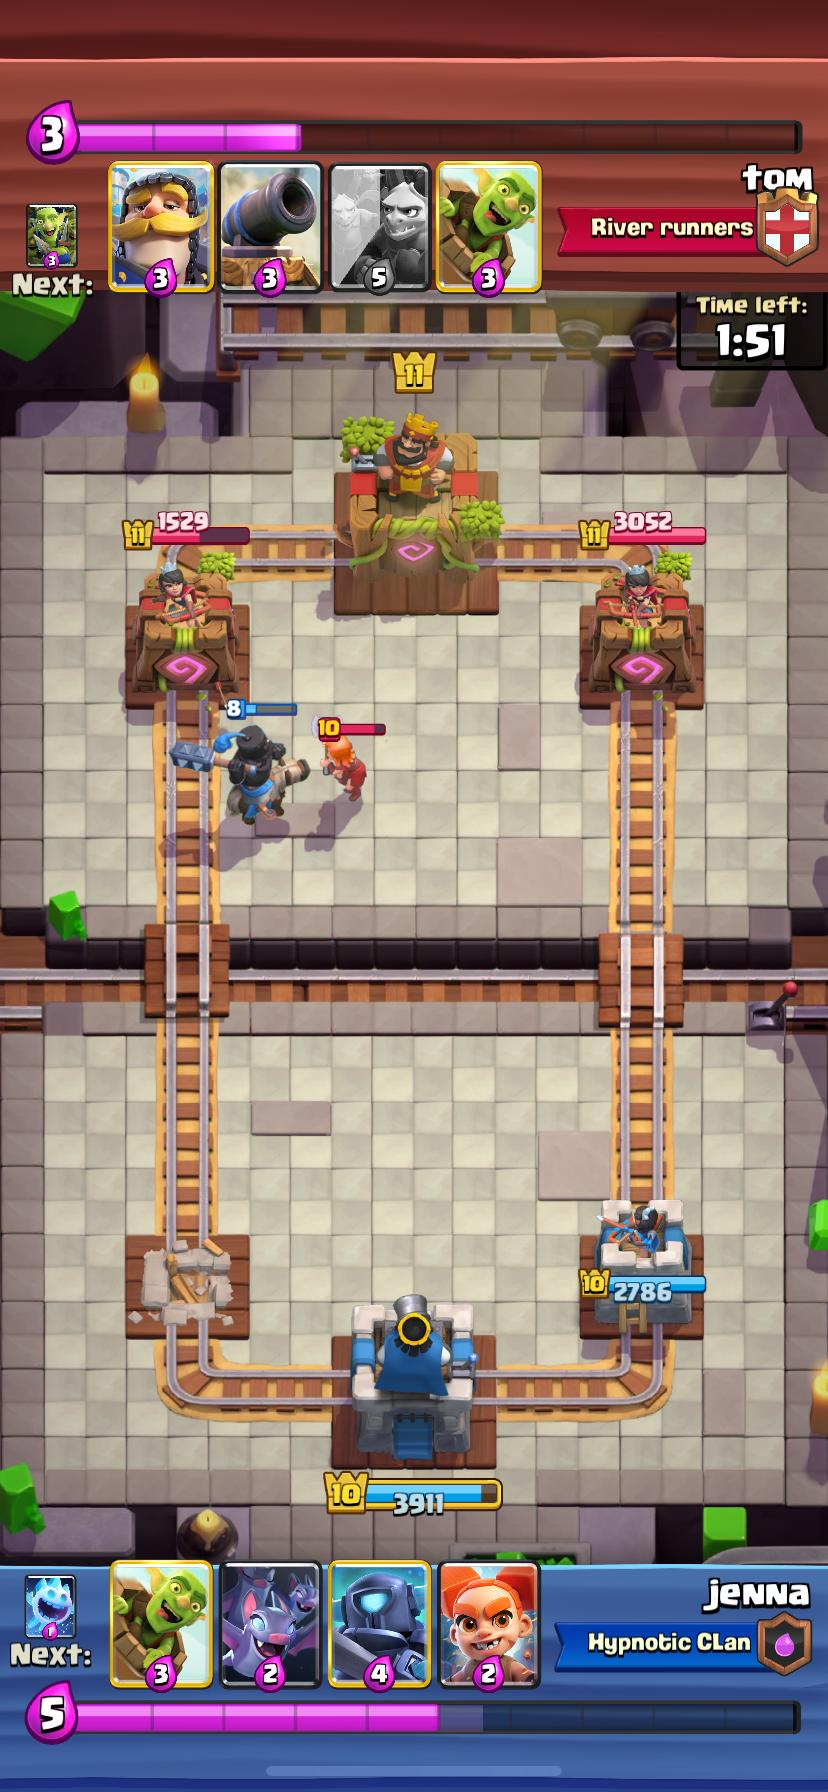EKingTower: (334, 413, 485, 581)
EValk: (319, 721, 365, 801)
EnemyPrincessTower: (134, 546, 238, 695), (588, 555, 694, 693)
ODarkPrince: (226, 723, 308, 827)
OwnKingTower: (351, 1295, 476, 1461)
OwnPrincessTower: (580, 1200, 704, 1331)
TowerDown: (126, 1235, 250, 1338)
